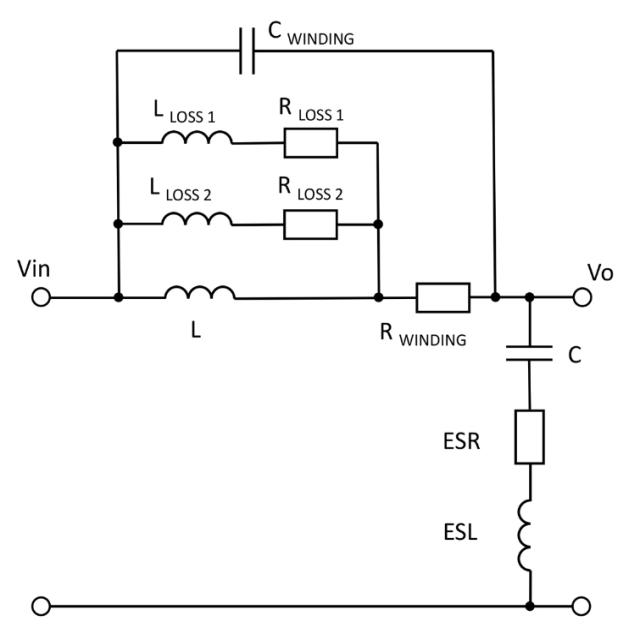cap: (501, 336, 556, 366), (233, 23, 261, 79)
ind: (516, 492, 540, 574), (158, 126, 235, 150), (159, 282, 239, 303), (159, 209, 235, 230)
net: (250, 46, 498, 56), (111, 46, 242, 56), (228, 218, 288, 232), (228, 136, 292, 148), (335, 137, 382, 148), (526, 356, 534, 416), (527, 457, 535, 506)
net_node: (53, 598, 570, 612), (487, 45, 503, 307), (111, 46, 125, 307), (230, 289, 420, 305), (371, 137, 388, 306), (53, 289, 168, 306), (466, 290, 572, 302), (332, 215, 392, 233), (523, 287, 539, 348), (110, 132, 162, 150), (107, 214, 168, 229), (524, 565, 538, 615)
res: (410, 276, 472, 316), (510, 406, 548, 468), (281, 124, 342, 162), (279, 207, 343, 243)
